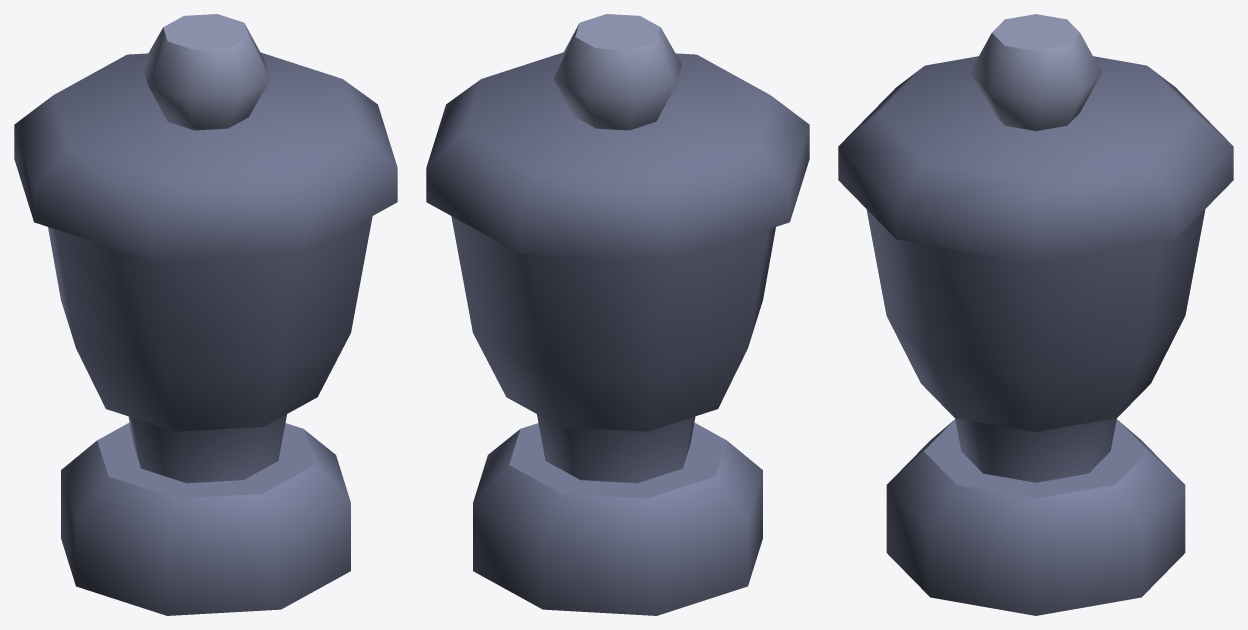
The model's file is urn-round.glb.
3 renders of one model, left to right at view 1: azimuth 30°, elevation 25°; view 2: azimuth 150°, elevation 25°; view 3: azimuth 270°, elevation 25°, orthographic.
Parts seen in each view (by area): view 1: urn-round, lid.001; view 2: urn-round, lid.001; view 3: urn-round, lid.001.
Boxes of the visible parts, <box> form: urn-round: <box>48,216,372,615</box>; lid.001: <box>14,14,397,261</box>; urn-round: <box>451,216,775,615</box>; lid.001: <box>426,14,809,261</box>; urn-round: <box>866,209,1205,615</box>; lid.001: <box>838,14,1233,263</box>.
Size of the model in its own units: 5.29 by 7.68 by 5.29.
1 material, 1 textured.
